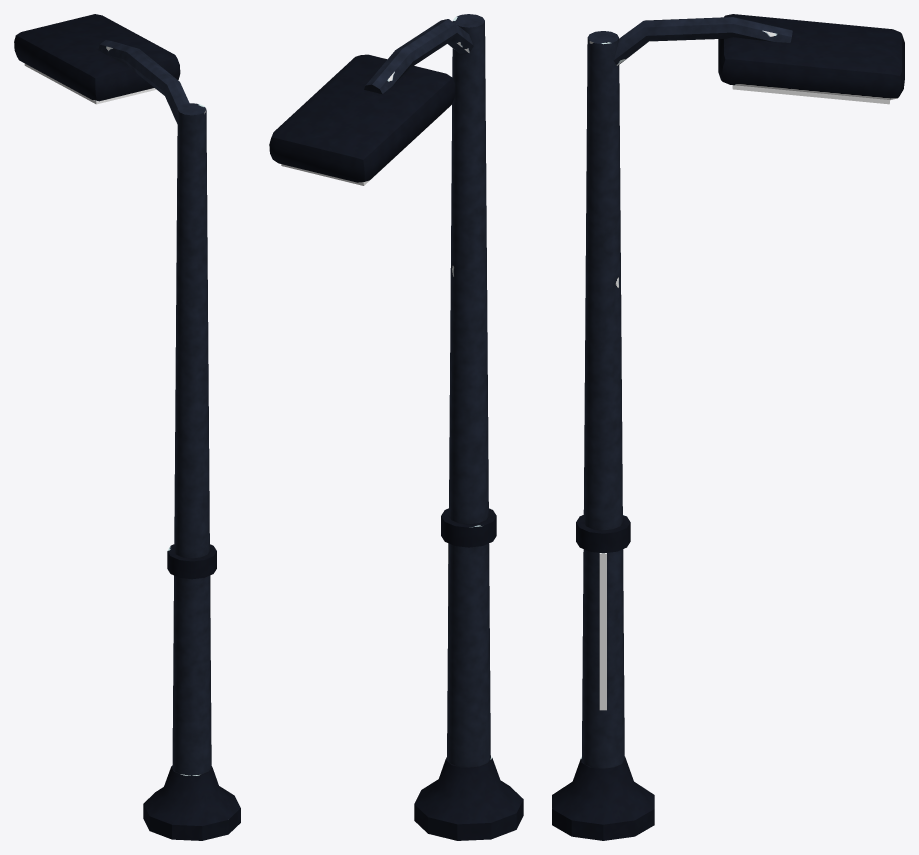
Rendered from street_lamp.fbx.
3 renders of one model, left to right at view 1: azimuth 30°, elevation 25°; view 2: azimuth 150°, elevation 25°; view 3: azimuth 270°, elevation 25°, orthographic. The views are drawn at different scales.
Parts seen in each view (by area): view 1: street_lamp, street_lamp_glow; view 2: street_lamp; view 3: street_lamp, street_lamp_glow.
Part boxes in pixels (x1,y1,x2,y2): street_lamp: (14,14,240,840); street_lamp_glow: (24,63,210,617); street_lamp: (269,14,523,840); street_lamp: (552,14,904,840); street_lamp_glow: (599,85,890,710).
Bounding box in the file's own units: 160 × 1231 × 491.
Materials: 1 (1 with a texture image).
